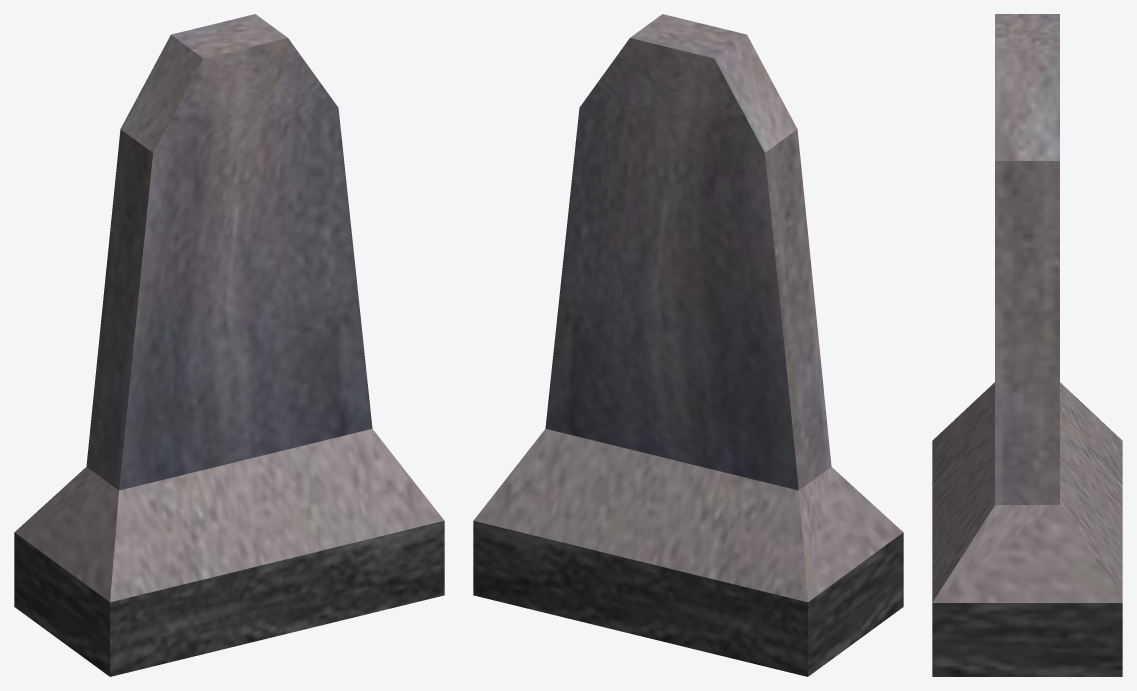
Rendered from grave2.glb.
3 renders of one model, left to right at view 1: azimuth 30°, elevation 25°; view 2: azimuth 150°, elevation 25°; view 3: azimuth 270°, elevation 25°, orthographic.
Bounding box in the file's own units: 1.32 × 2.13 × 0.6549.
1 material, 1 textured.
